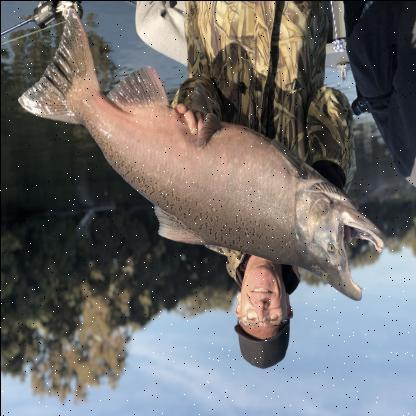fish: (17, 7, 386, 303)
